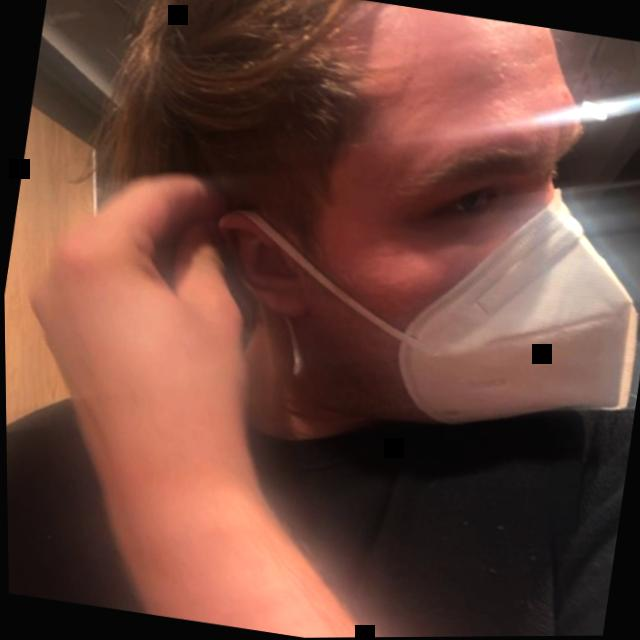Mask: (115, 0, 640, 441)
